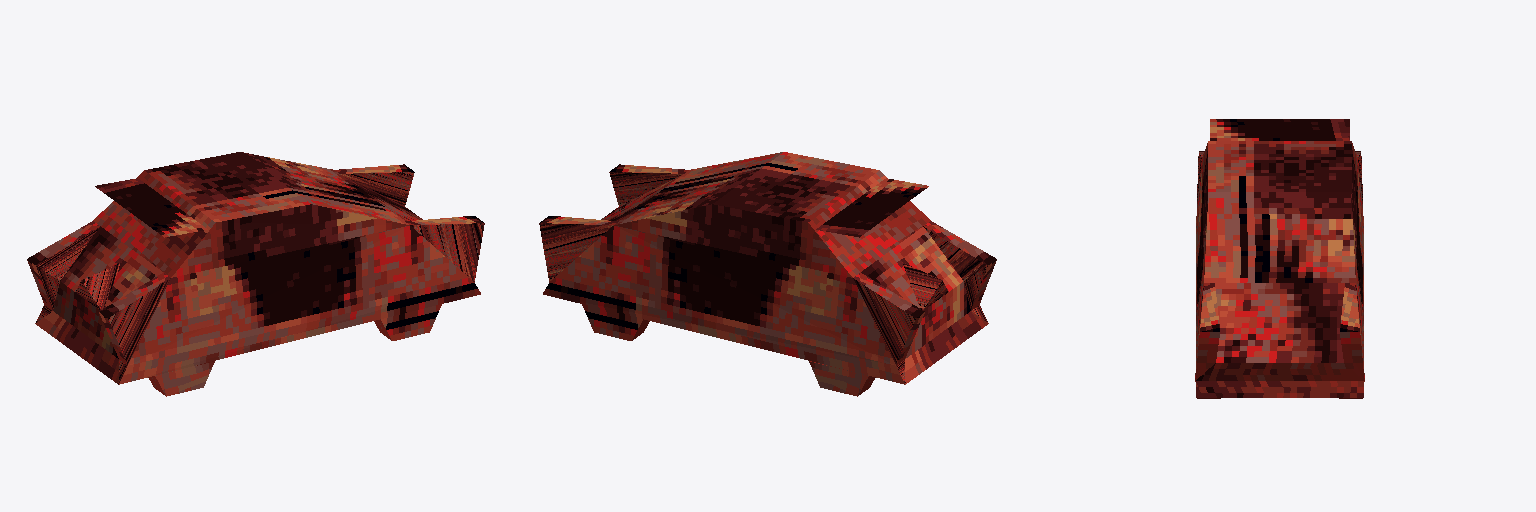
The picture shows the model from 3 angles: view 1: azimuth 30°, elevation 25°; view 2: azimuth 150°, elevation 25°; view 3: azimuth 270°, elevation 25°; orthographic projection.
Bounding box in the file's own units: 4.02 × 1.59 × 1.56.
Materials: 1 (1 with a texture image).